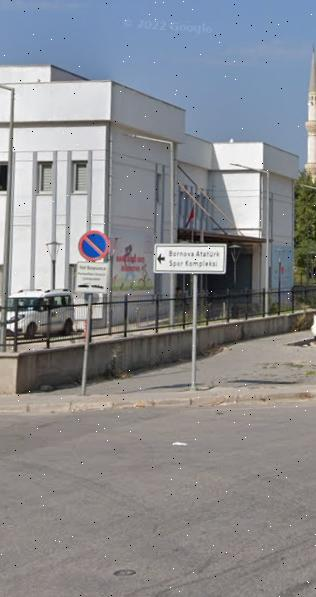nopark: (80, 232, 107, 260)
